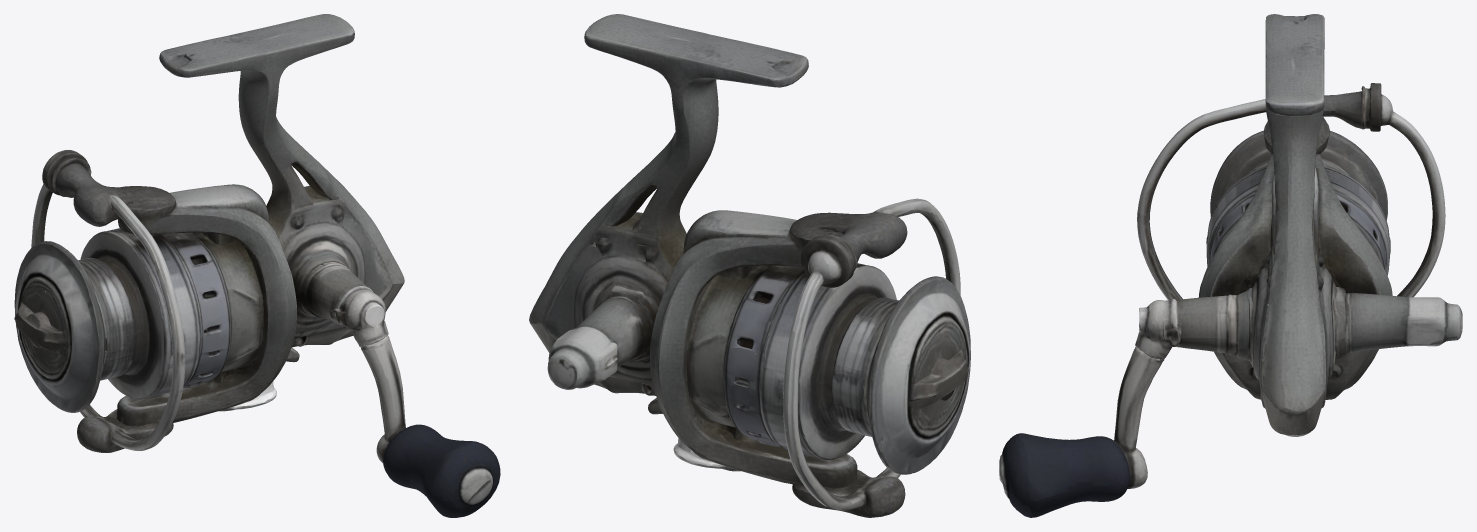
Rendered from parts.glb.
3 views of the same model, side by side, from view 1: azimuth 30°, elevation 25°; view 2: azimuth 150°, elevation 25°; view 3: azimuth 270°, elevation 25° (orthographic). The views are drawn at different scales.
Bounding box in the file's own units: 0.2122 × 0.22 × 0.2211.
Materials: 4 (4 with a texture image).
